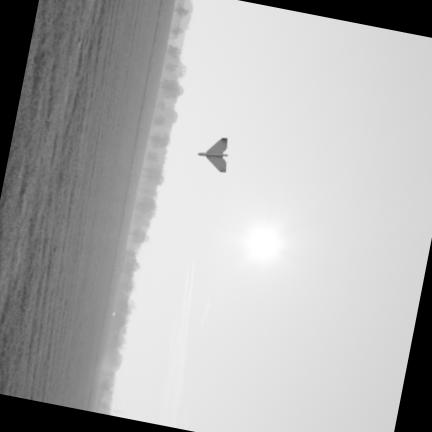Shahed: (198, 138, 226, 172)
